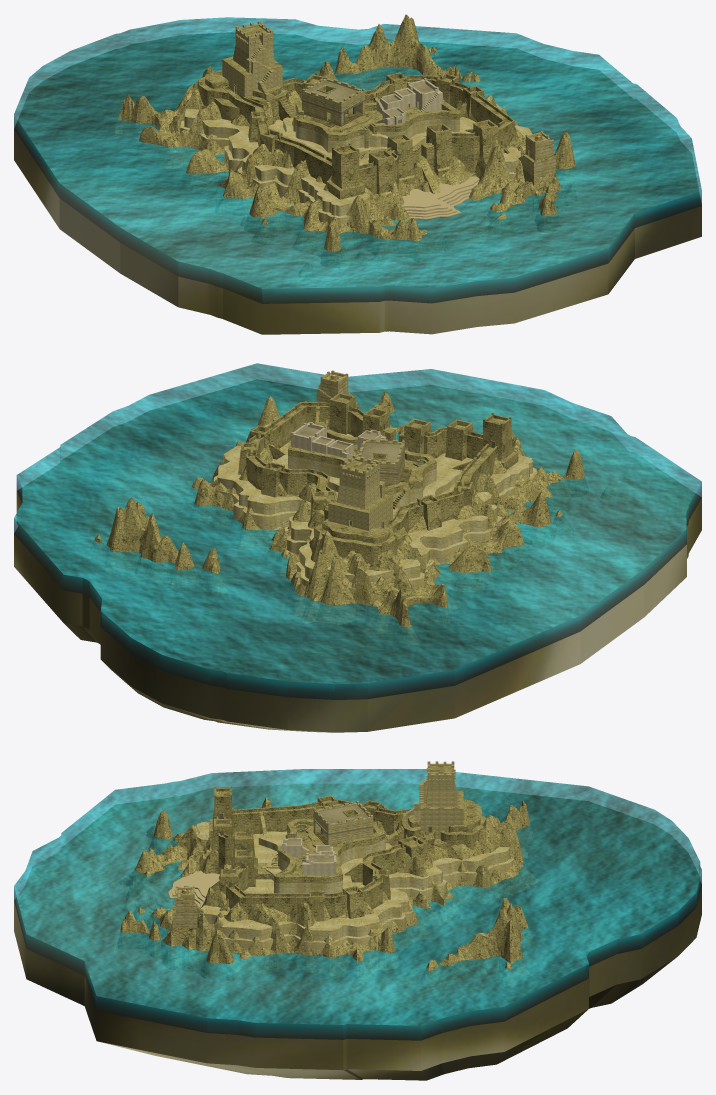
File: fortress_island.glb
3 views of the same model, one above another, from view 1: azimuth 30°, elevation 25°; view 2: azimuth 150°, elevation 25°; view 3: azimuth 270°, elevation 25° (orthographic). The views are drawn at different scales.
Parts seen in each view (by area): view 1: Material2 (×14), Material3 (×6); view 2: Material2 (×11), Material3 (×4); view 3: Material2 (×12), Material3 (×5).
Boxes of the visible parts, x1,y1,x2,y2 form: Material2 (×14): (14, 14, 701, 334); Material3 (×6): (283, 76, 471, 160); Material2 (×11): (14, 363, 701, 732); Material3 (×4): (276, 422, 461, 516); Material2 (×12): (14, 761, 701, 1080); Material3 (×5): (258, 800, 391, 893).
Size of the model in its own units: 10849 by 3263 by 12271.
Materials: 20 (19 with a texture image).
